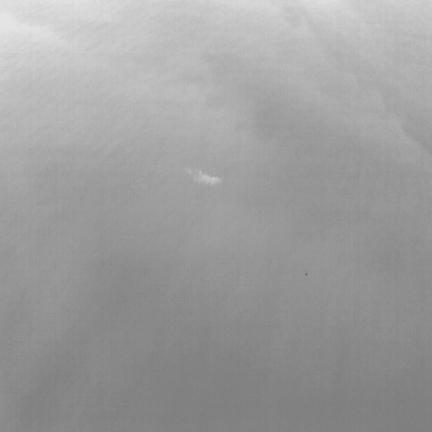flukeprints: (187, 169, 221, 186)
